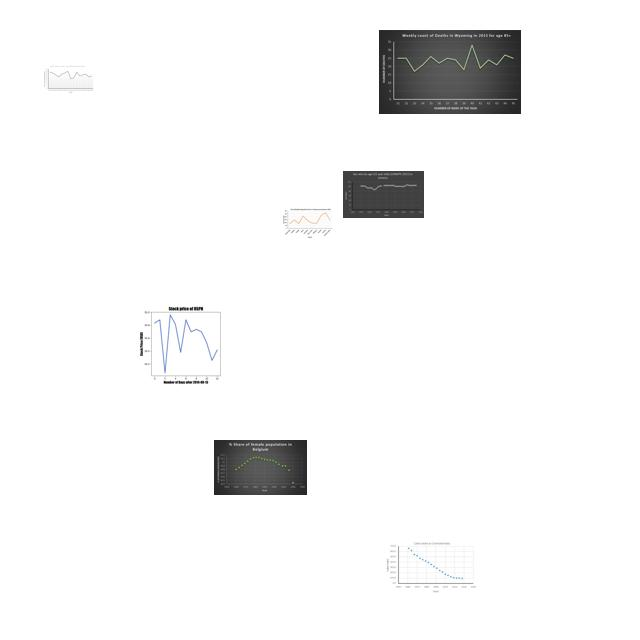Graph: (379, 30, 521, 114), (129, 302, 240, 385), (214, 440, 307, 495), (386, 541, 477, 593), (343, 171, 424, 218), (282, 207, 333, 239), (43, 65, 94, 94)
